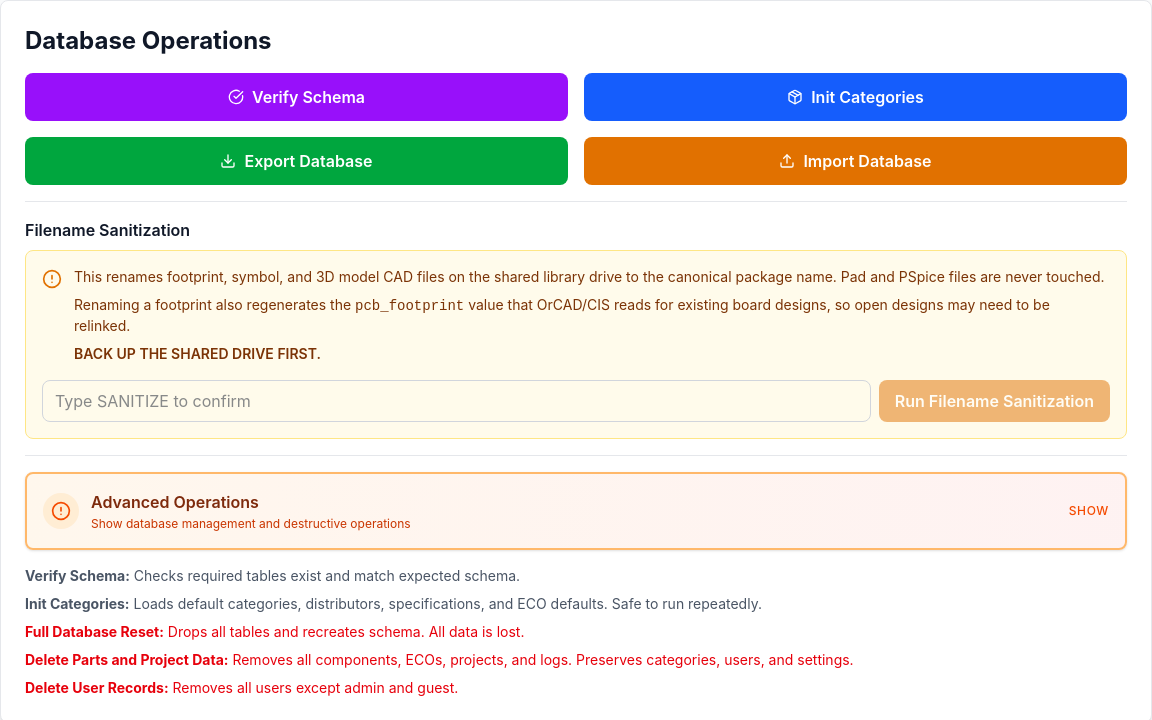
Test: OperationTab filename sanitization › keeps the run button disabled until the exact token is typed
Expected: the button "Run Filename Sanitization" is disabled, top-left (879, 380), bottom-right (1110, 422)
Type "sanitize" into the field named "Filename sanitization confirmation" at (456, 401), box top-left (42, 380), bottom-right (871, 422)
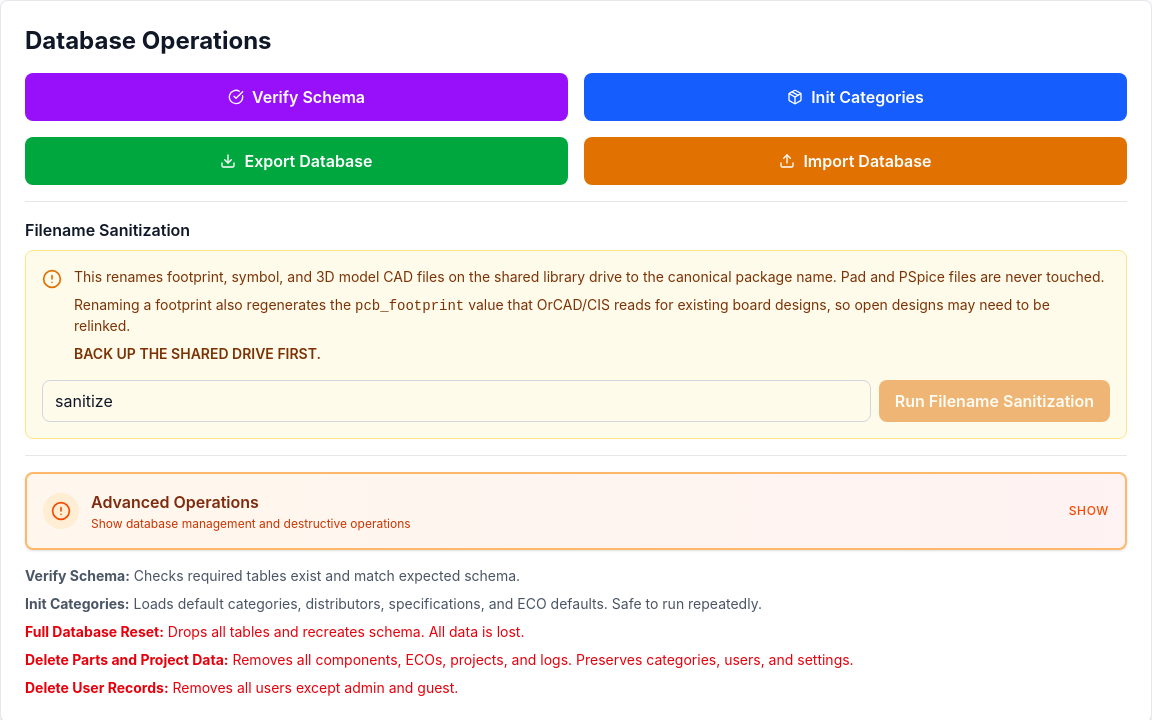
Expected: the button "Run Filename Sanitization" is disabled, top-left (879, 380), bottom-right (1110, 422)
Replace the text in the field named "Filename sanitization confirmation" with "SANIT" at (456, 401), box top-left (42, 380), bottom-right (871, 422)
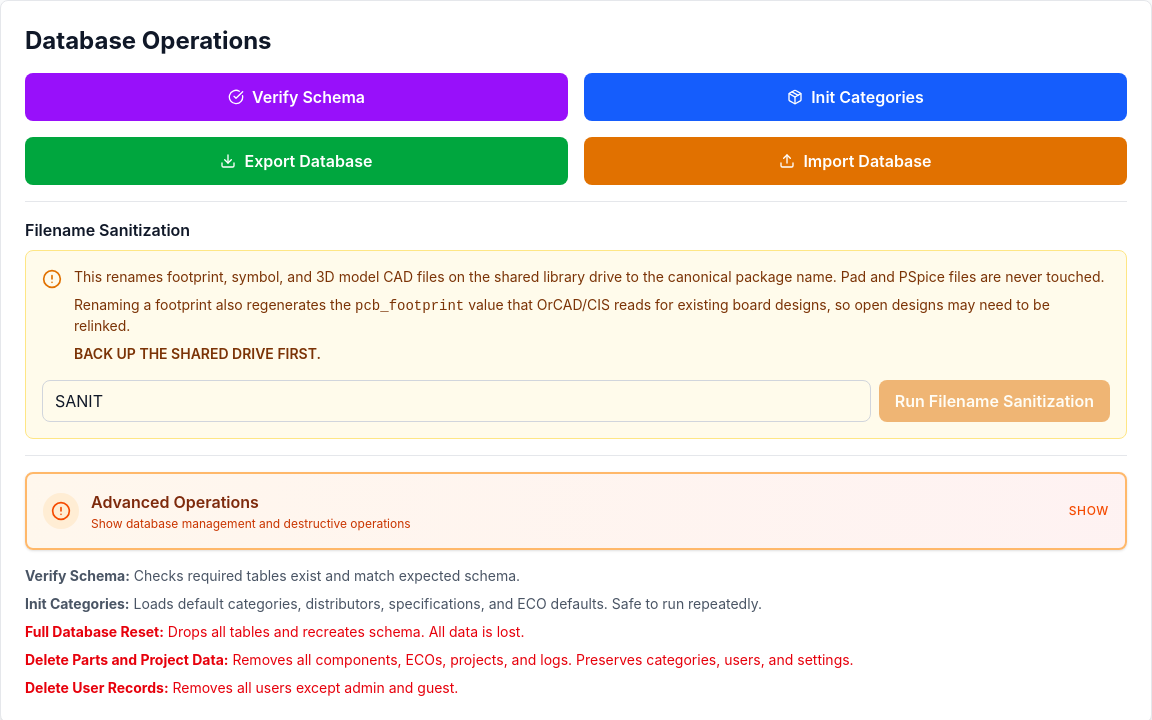
Expected: the button "Run Filename Sanitization" is disabled, top-left (879, 380), bottom-right (1110, 422)
Replace the text in the field named "Filename sanitization confirmation" with "SANITIZE" at (456, 401), box top-left (42, 380), bottom-right (871, 422)
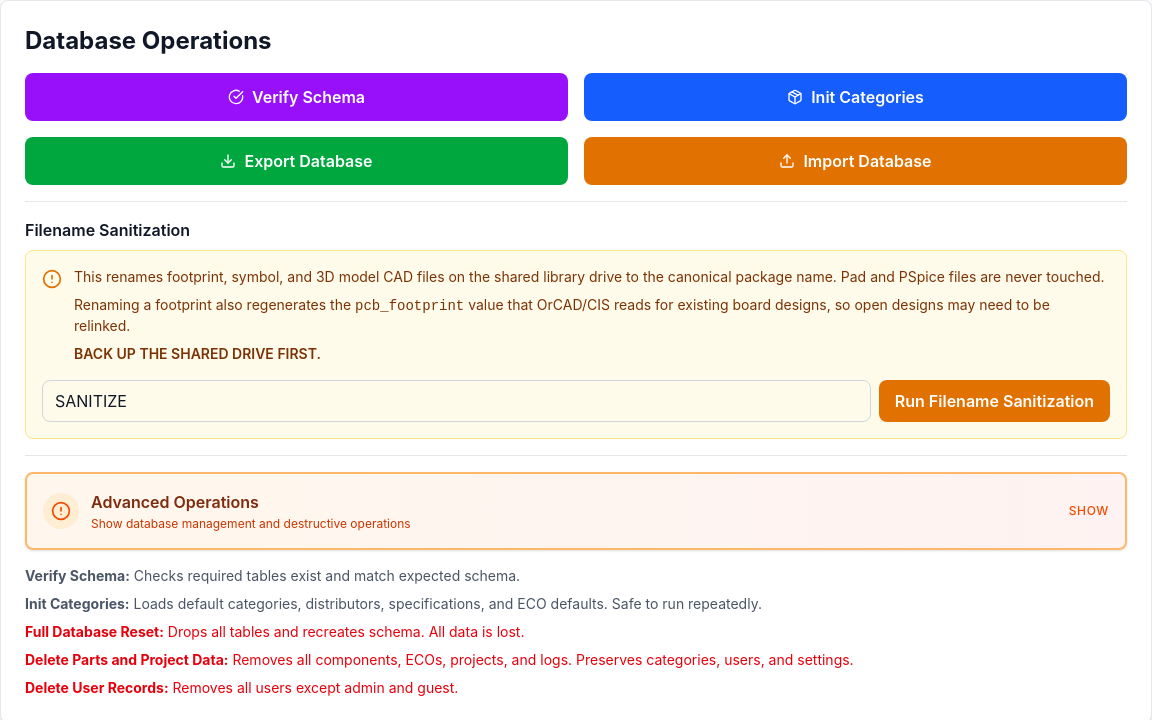
Expected: the button "Run Filename Sanitization" is enabled, top-left (879, 380), bottom-right (1110, 422)
